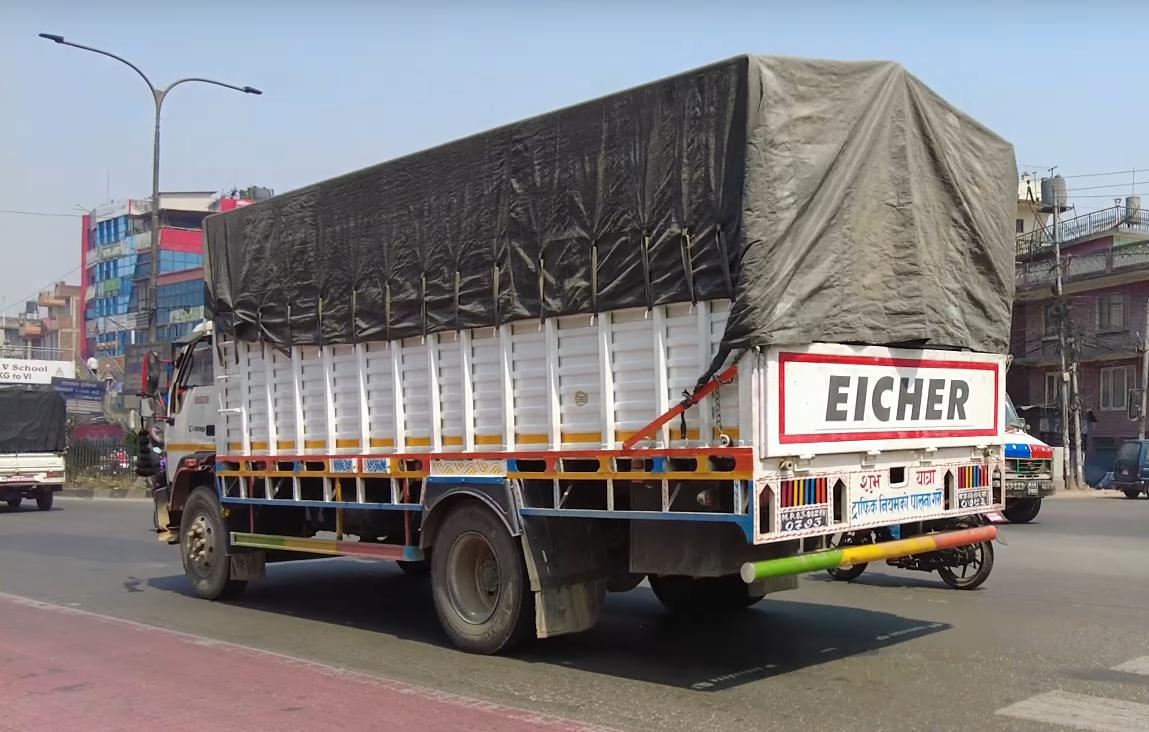mini_truck: (982, 370, 1060, 528)
transport_vehicle: (0, 380, 68, 518)
truck: (136, 52, 1034, 655)
van: (1111, 430, 1149, 502)
